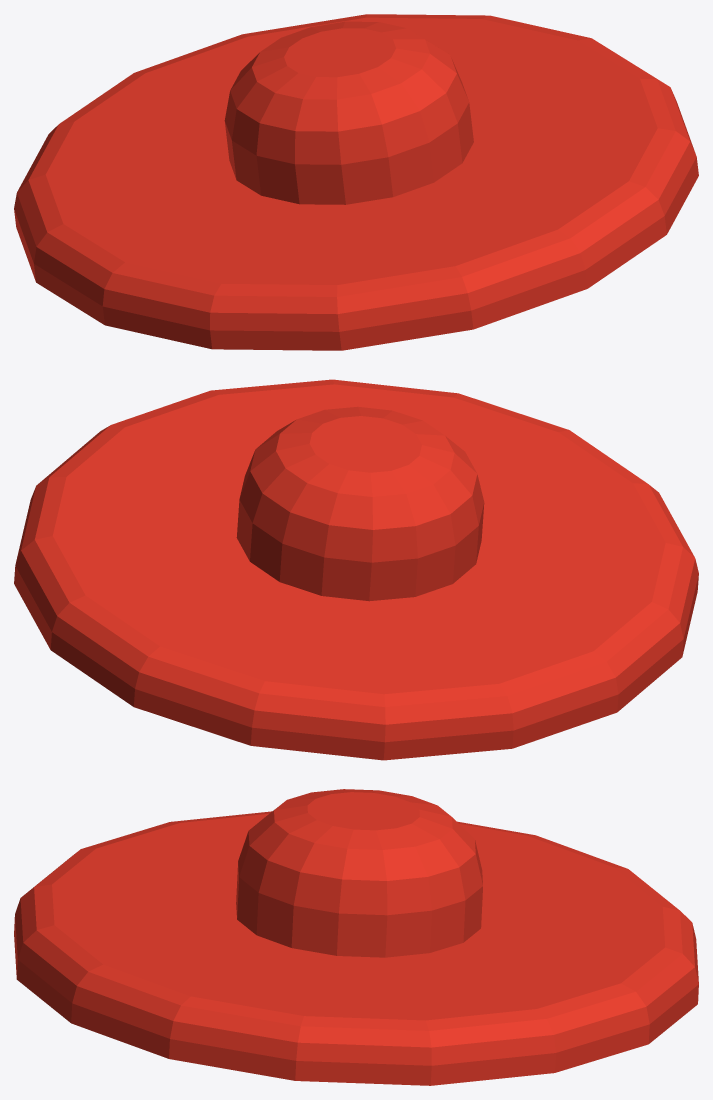
File: крышка блендер.fbx
3 renders of one model, top to bottom at view 1: azimuth 30°, elevation 25°; view 2: azimuth 150°, elevation 25°; view 3: azimuth 270°, elevation 25°, orthographic.
Visible parts, largest first — view 1: cap; view 2: cap; view 3: cap.
Boxes of the visible parts, x1,y1,x2,y2 form: cap: (14, 14, 698, 350); cap: (14, 379, 698, 760); cap: (14, 789, 698, 1085).
Bounding box in the file's own units: 863 × 264 × 865.
